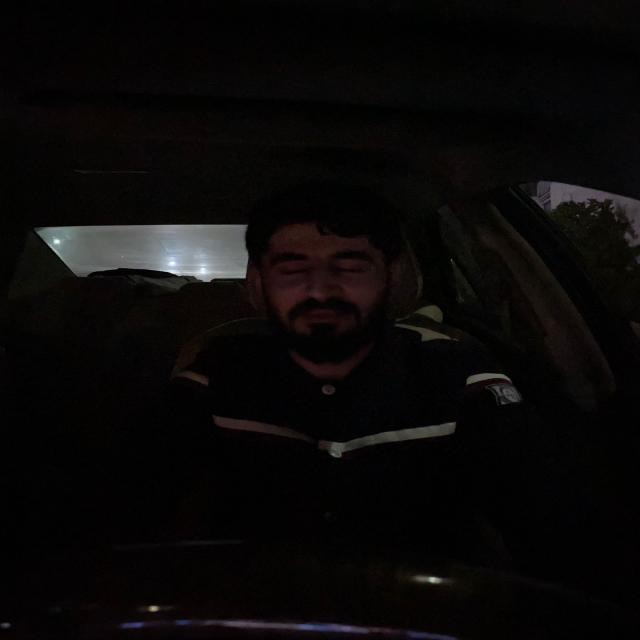drowsy: (244, 178, 411, 365)
